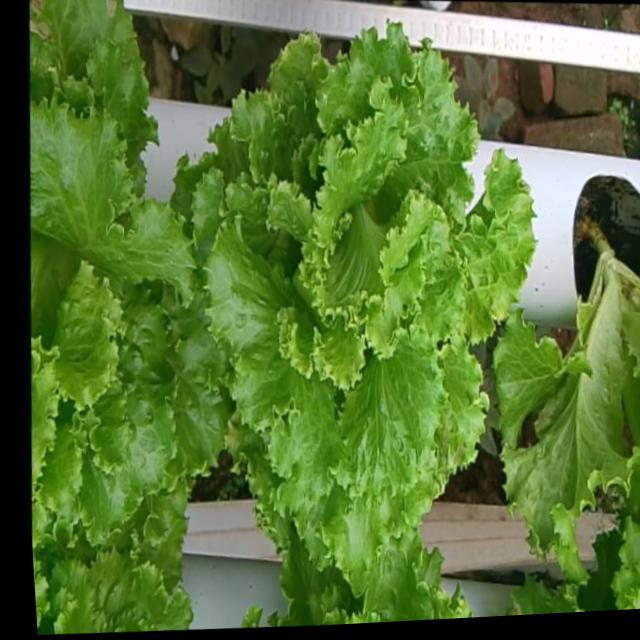Mature: (189, 6, 534, 560), (29, 79, 225, 535)
